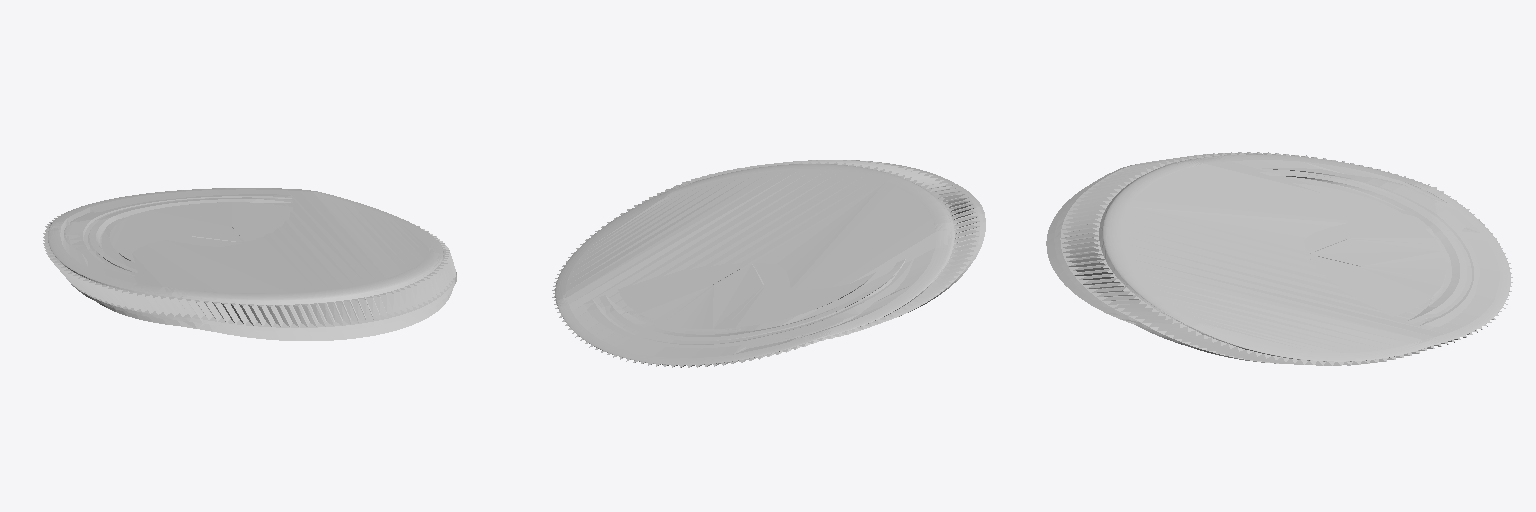
Rendered from bottle_cap_short.obj.
3 renders of one model, left to right at view 1: azimuth 30°, elevation 25°; view 2: azimuth 150°, elevation 25°; view 3: azimuth 270°, elevation 25°, orthographic.
Visible parts, largest first — view 1: bottle_cap_short; view 2: bottle_cap_short; view 3: bottle_cap_short.
Part boxes in pixels (bbox=[...]): bottle_cap_short: bbox=[43, 188, 456, 340]; bottle_cap_short: bbox=[552, 160, 985, 367]; bottle_cap_short: bbox=[1046, 152, 1512, 365].
Bounding box in the file's own units: 0.0302 × 0.0052 × 0.0347.